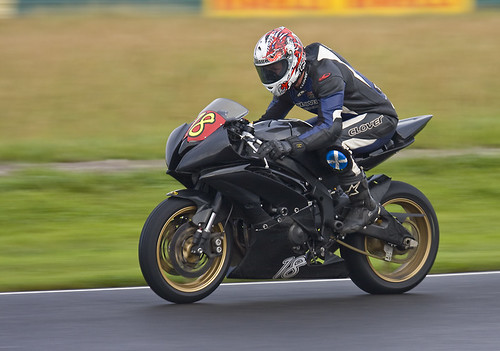helmet: (250, 20, 308, 97)
